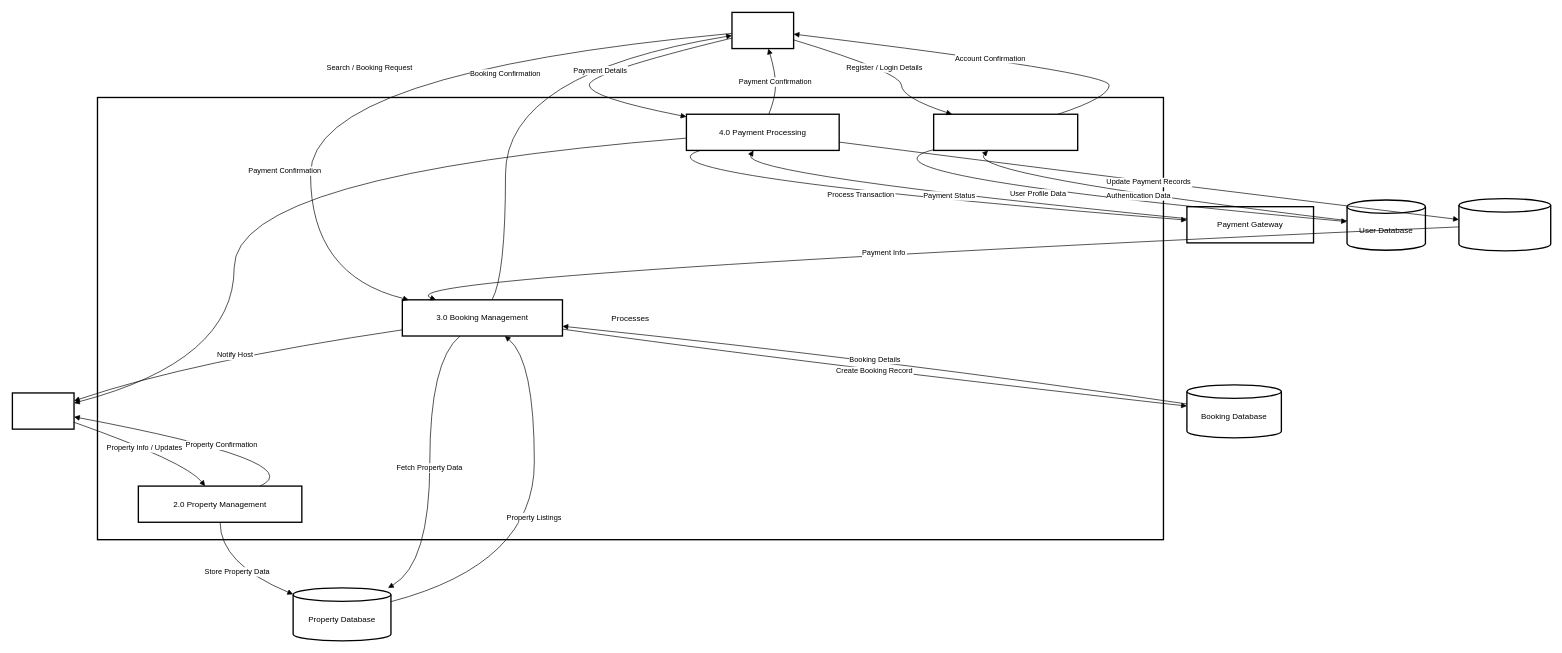
This 1562x653 diagram has some shape labels left out. The centre of each missing label's shape, as x and y in pixels:
"1.0 User Management" goes at pixel 1005 132.
"Host" goes at pixel 42 410.
"Payment Records" goes at pixel 1504 224.
"User" goes at pixel 762 30.
